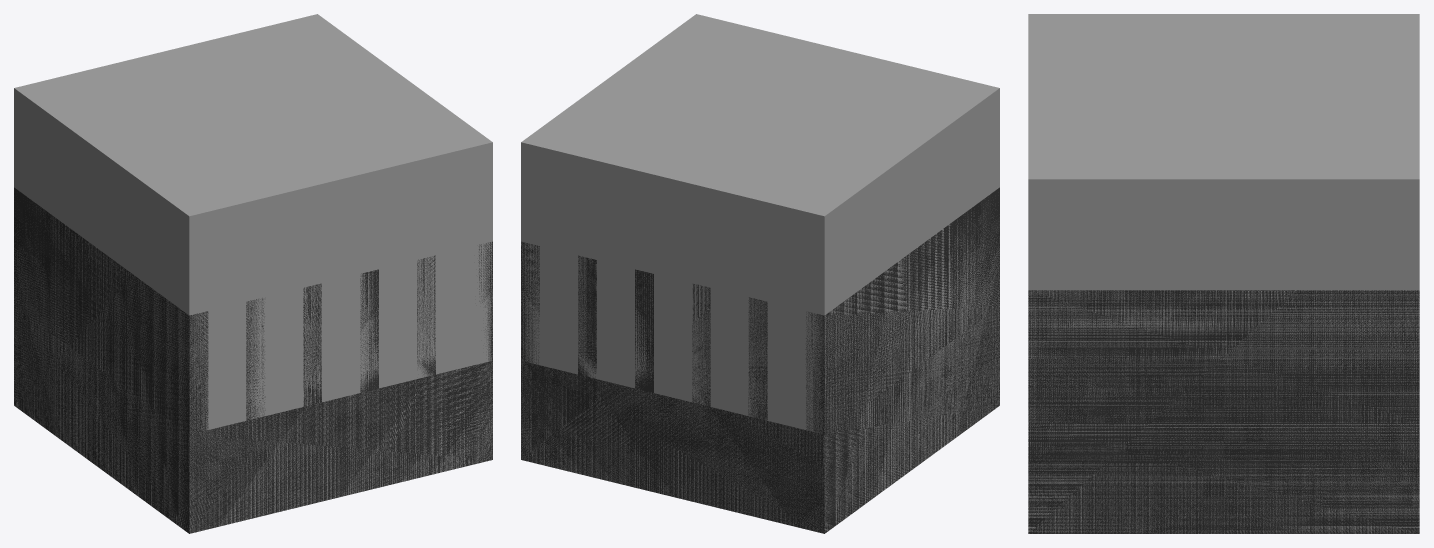
The model's file is LargeRheostat.obj.
3 views of the same model, side by side, from view 1: azimuth 30°, elevation 25°; view 2: azimuth 150°, elevation 25°; view 3: azimuth 270°, elevation 25° (orthographic). The views are drawn at different scales.
Parts seen in each view (by area): view 1: Minecraft_Block_Cube, main; view 2: Minecraft_Block_Cube, main; view 3: Minecraft_Block_Cube, main.
Part boxes in pixels (x1,y1,x2,y2): Minecraft_Block_Cube: (14,14,492,533); main: (14,187,492,533); Minecraft_Block_Cube: (521,14,999,533); main: (521,187,999,533); Minecraft_Block_Cube: (1028,14,1419,533); main: (1028,290,1419,533).
Bounding box in the file's own units: 1 × 1 × 1.
3 materials, 1 textured.
